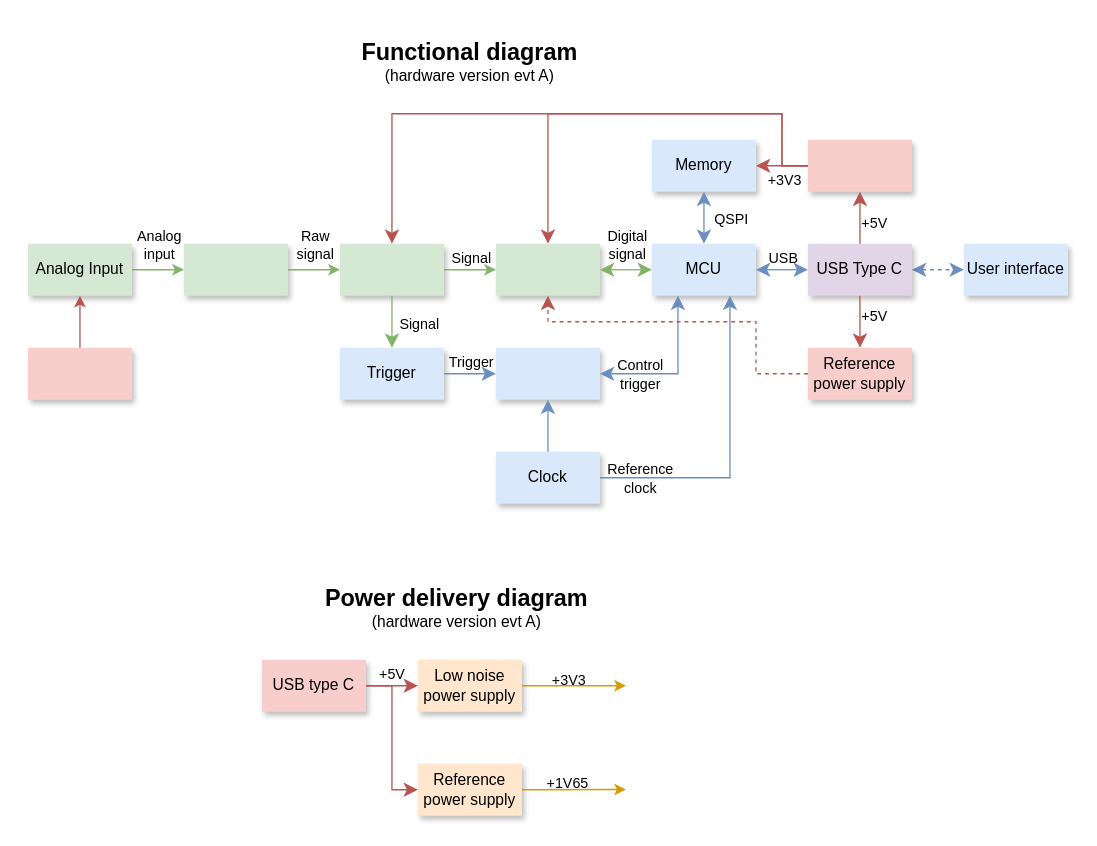
Image size: 1097x846. Some labels were removed from this diagram. Each missing label, with the centre of its shape:
"ADC" goes at (x=548, y=271).
"Amplifier" goes at (x=392, y=271).
"Attenuator" goes at (x=236, y=271).
"LDO, low noise, supply" goes at (x=860, y=167).
"Protection" goes at (x=80, y=375).
"Sample logic" goes at (x=548, y=375).
